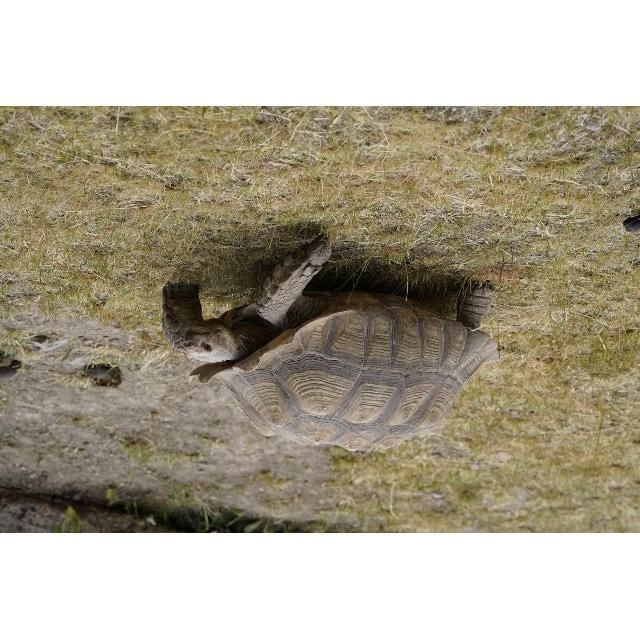turtle: (161, 233, 499, 451)
